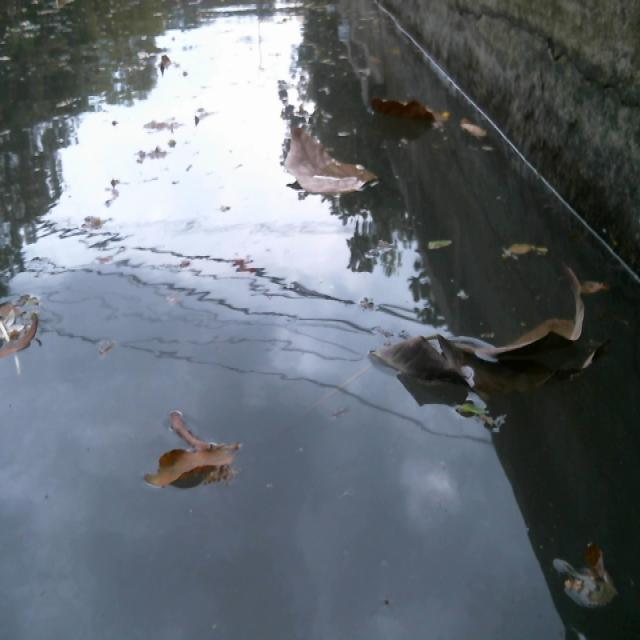Big-leaf: (450, 282, 595, 378), (355, 326, 467, 401), (278, 121, 376, 200), (372, 88, 452, 135)
Small-leaf: (148, 445, 234, 494), (563, 536, 615, 616), (163, 413, 242, 454), (2, 284, 40, 359), (499, 235, 555, 265), (152, 50, 187, 81), (461, 117, 494, 148), (83, 209, 116, 235), (425, 231, 453, 256)
